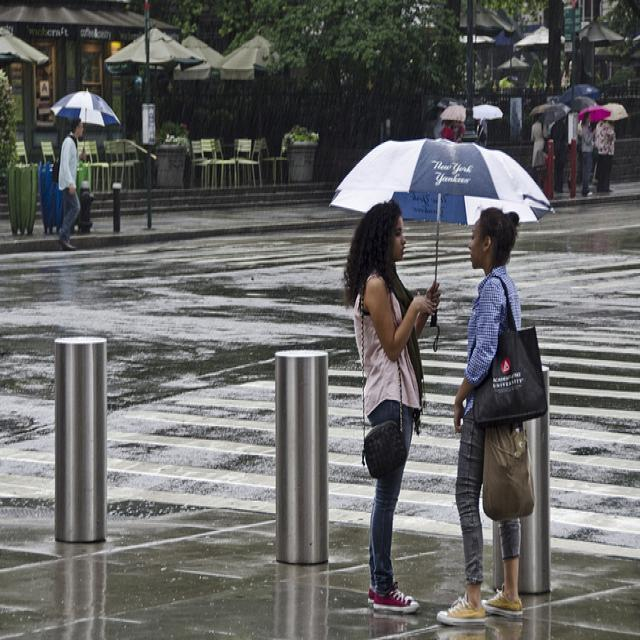fire_hydrant: (77, 179, 95, 232)
